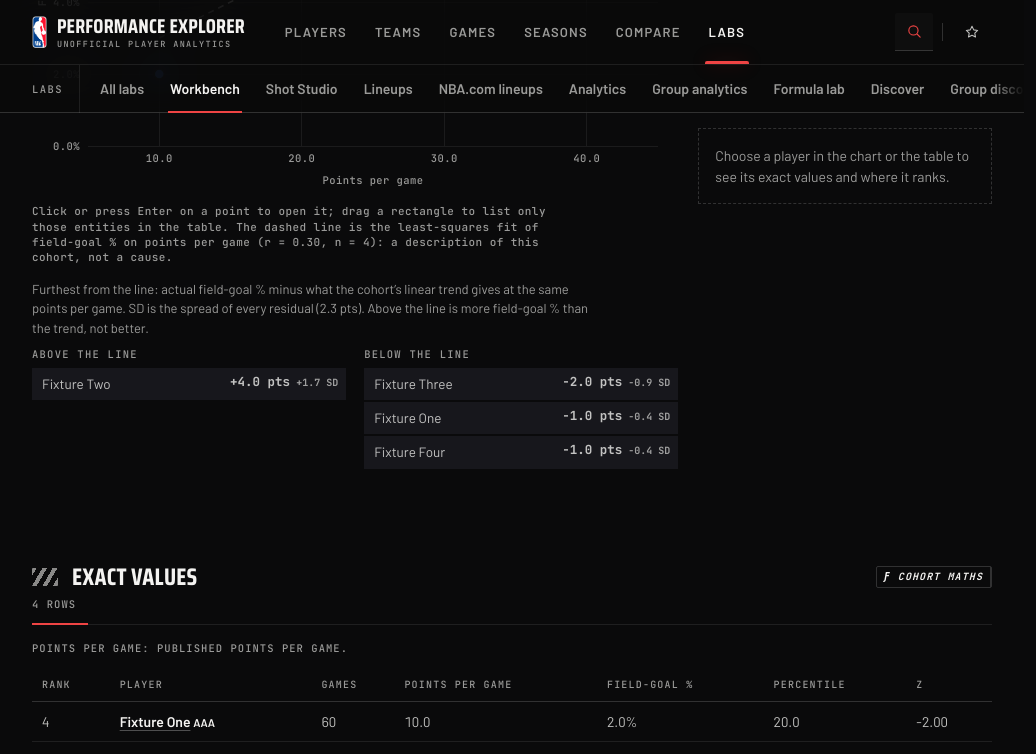
research workbench › lists who sits furthest above and below the fit line, and picks them
The width and height of the screenshot is (1036, 754).
(page scrolled)
What coordinates should you click on to do the following:
click the button "Fixture Two +4.0 pts +1.7 SD"
I would click on:
 (76, 383)
Its box is [32,368,346,400].
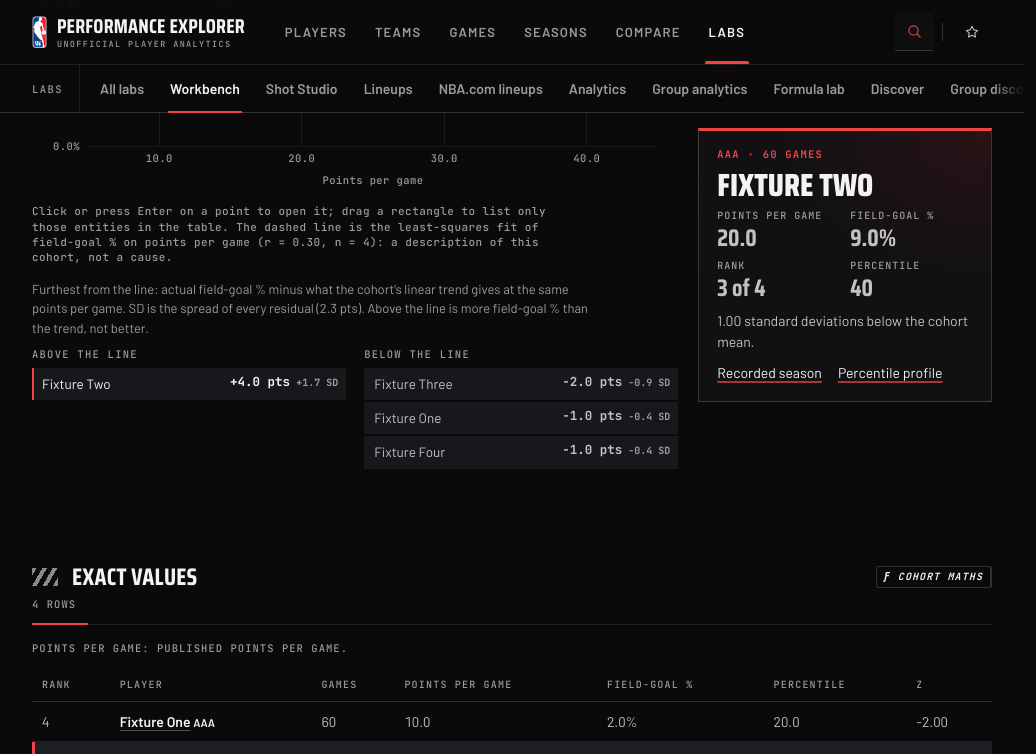
Check: the element named "Selected" shows "Fixture Two", box [717,160,873,210]
